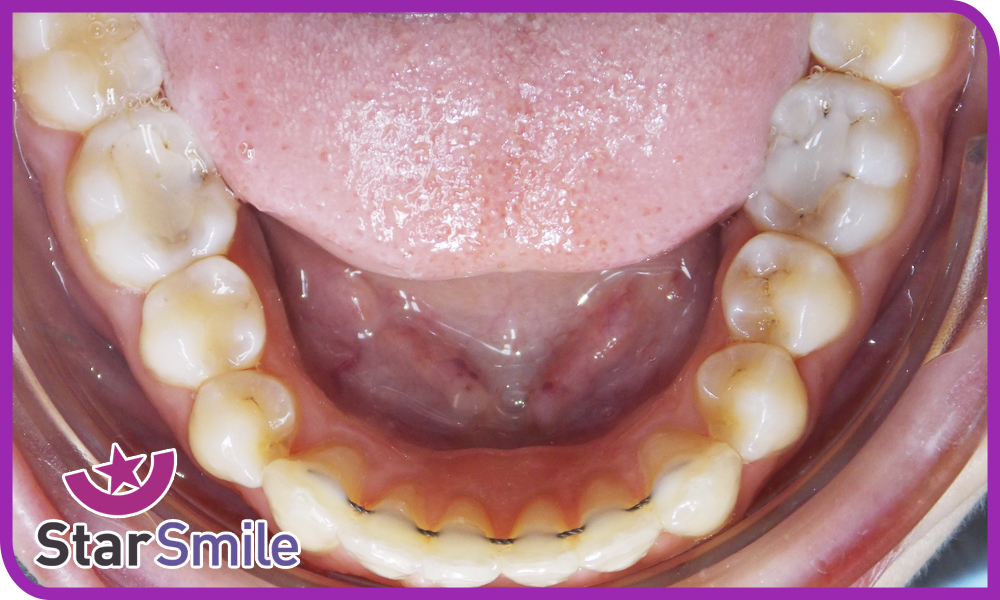LL1BC_healthy: (693, 338, 806, 449)
LL1M_decay: (778, 88, 906, 249)
LL2BC_healthy: (728, 238, 854, 341)
LL2M_healthy: (814, 14, 952, 82)
LLCI_decay: (500, 494, 579, 588)
LLC_decay: (644, 422, 739, 533)
LLLI_decay: (578, 476, 656, 571)
LR1BC_decay: (199, 374, 291, 483)
LR1M_decay: (81, 122, 224, 266)
LR2BC_decay: (145, 267, 267, 375)
LR2M_decay: (21, 12, 164, 113)
LRCI_decay: (432, 498, 500, 581)
LRC_decay: (274, 442, 349, 549)
LRLI_decay: (352, 481, 427, 578)
